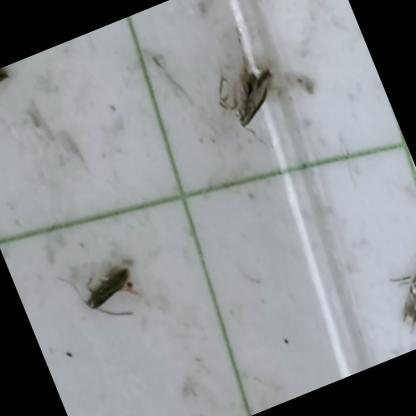prays_oleae: (198, 34, 306, 157), (50, 238, 154, 342), (371, 229, 416, 336)
